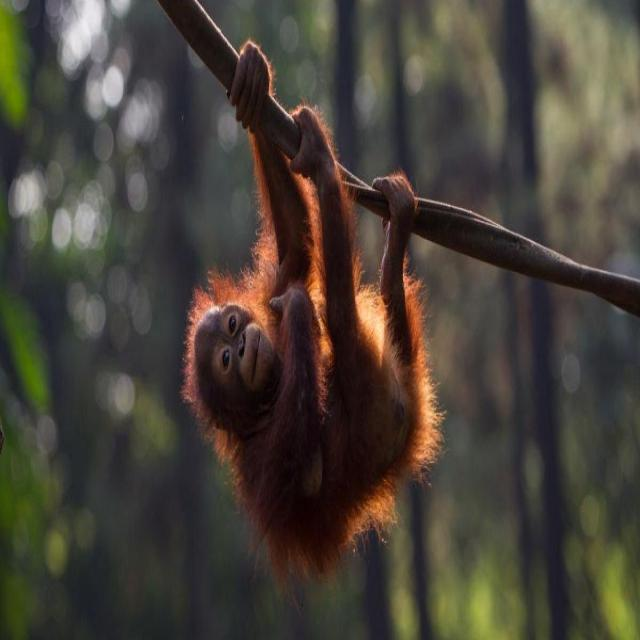Chimpanzee: (157, 83, 456, 596)
